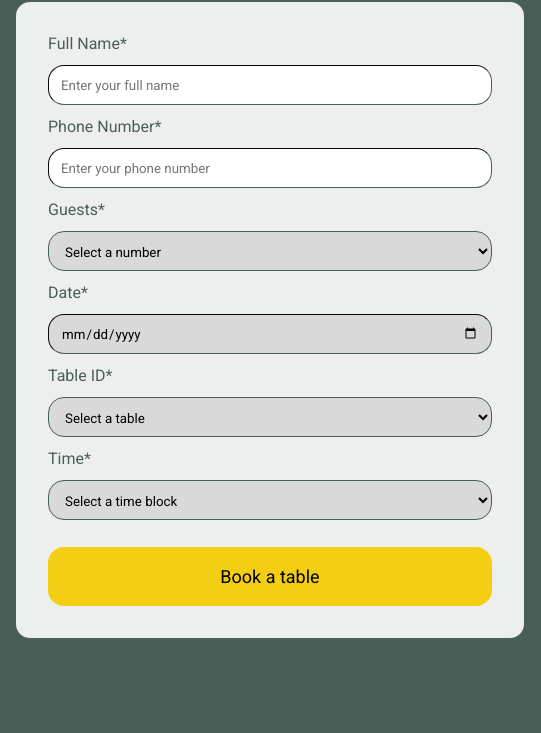
Test: BookingForm Component › shows validation errors on empty submission
The width and height of the screenshot is (541, 733).
Click the button with aria-label "Submit Booking Form".
click(270, 576)  # box [48,547,492,606]
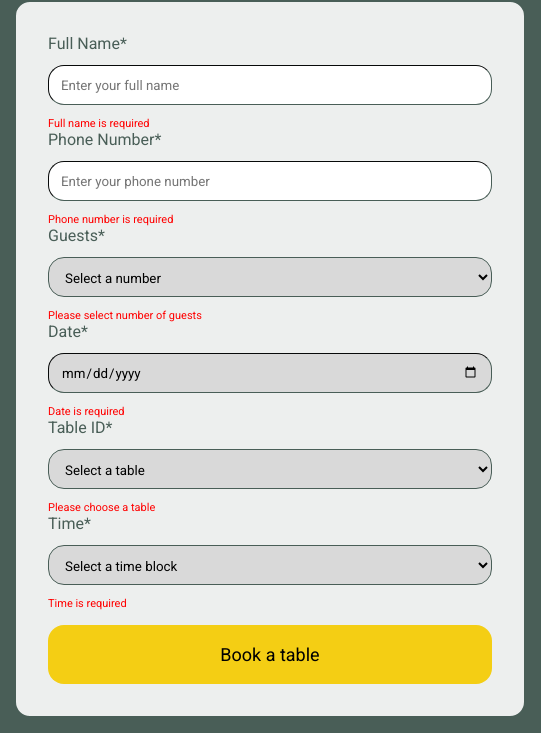
Now the text "Full name is required" is shown, box [48,117,150,130]
Now the text "Phone number is required" is shown, box [48,213,173,226]
Now the text "Please select number of guests" is shown, box [48,309,202,322]
